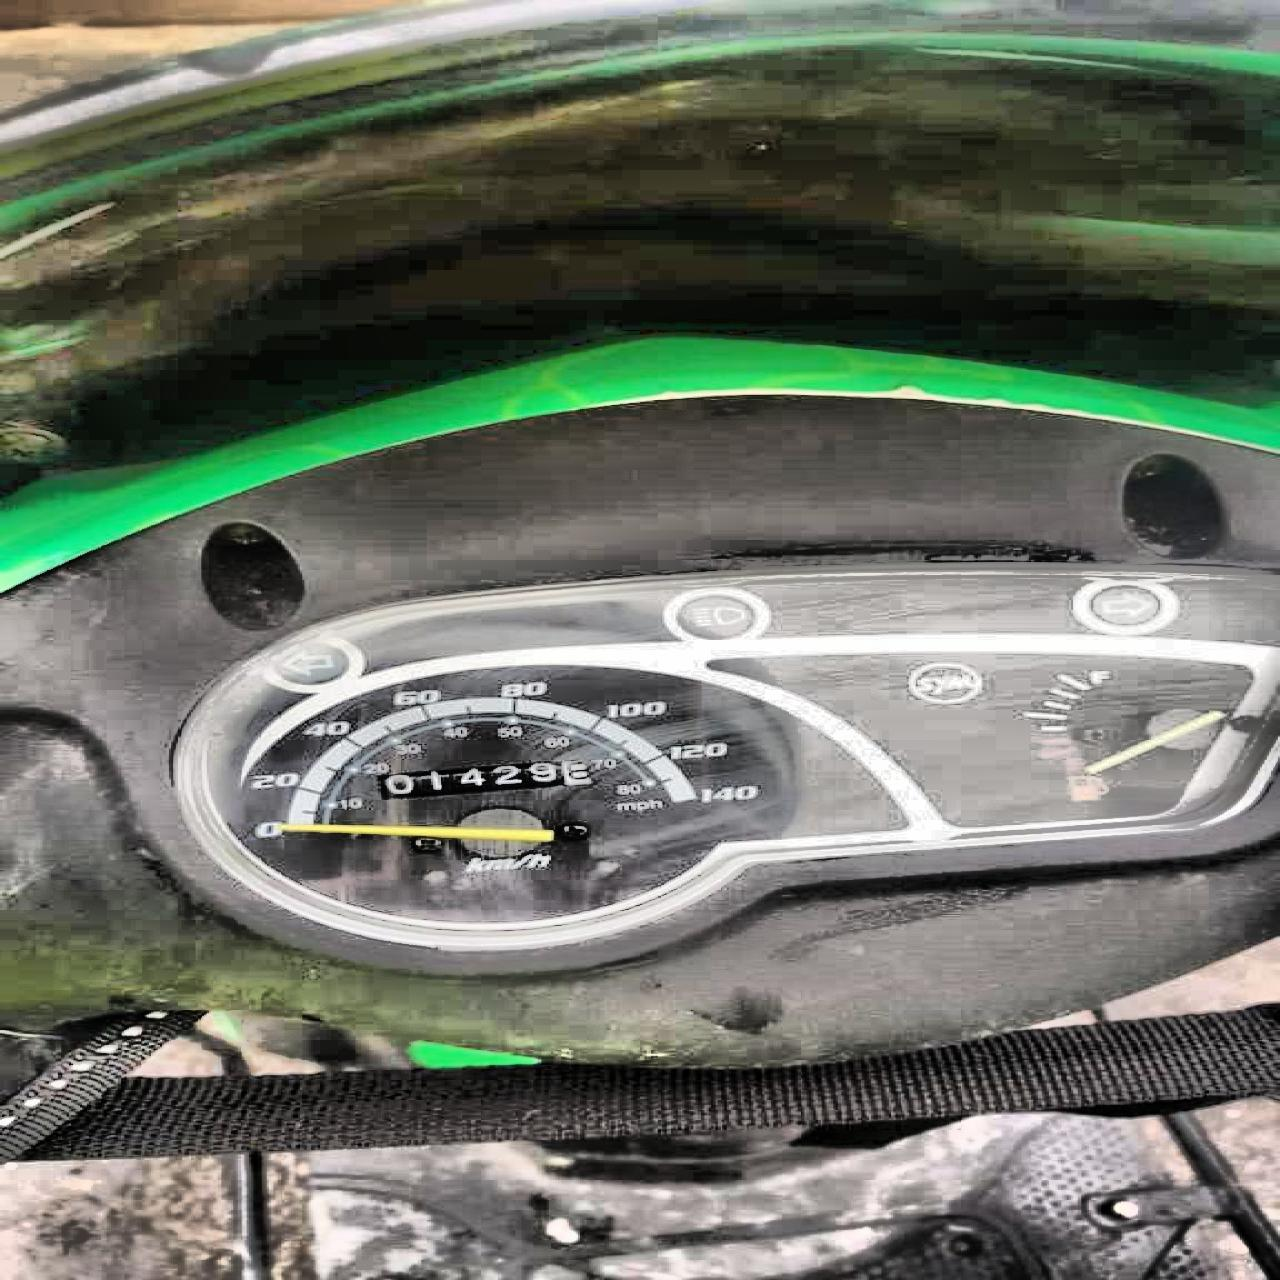0: (382, 772, 414, 795), (375, 760, 389, 772)
1: (424, 768, 444, 794)
2: (491, 764, 522, 787)
4: (455, 767, 489, 789)
8: (565, 760, 591, 779)
9: (526, 760, 558, 782)
odometer: (374, 757, 593, 801)
